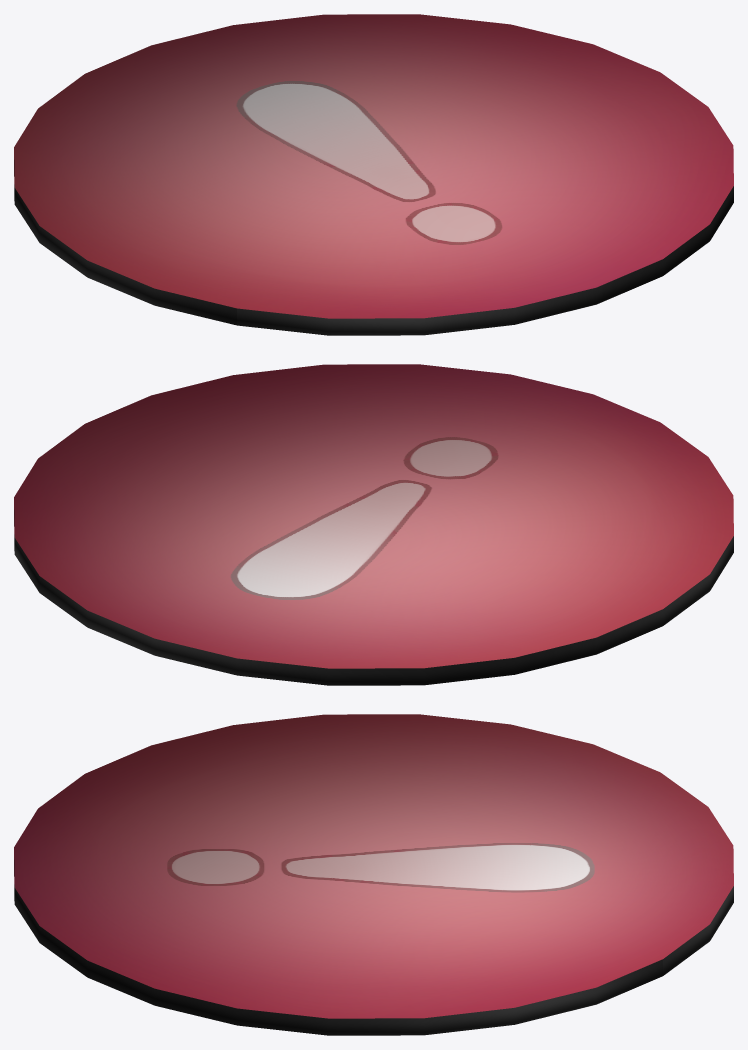
The picture shows the model from 3 angles, top to bottom: view 1: azimuth 30°, elevation 25°; view 2: azimuth 150°, elevation 25°; view 3: azimuth 270°, elevation 25°; orthographic projection.
Visible parts, largest first — view 1: Cylinder; view 2: Cylinder; view 3: Cylinder.
Part boxes in pixels (<box>): Cylinder: <box>14,14,733,335</box>; Cylinder: <box>14,364,733,685</box>; Cylinder: <box>14,714,733,1035</box>.
Bounding box in the file's own units: 620 × 16.21 × 620.
1 material, 1 textured.
